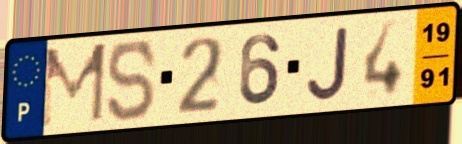2: (175, 34, 227, 117)
4: (361, 18, 408, 100)
6: (238, 32, 283, 108)
J: (304, 24, 351, 103)
M: (37, 40, 110, 132)
S: (105, 38, 159, 125)
